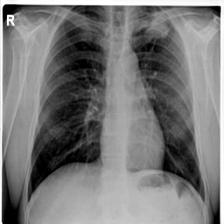tuberculosis: (21, 4, 208, 224)
